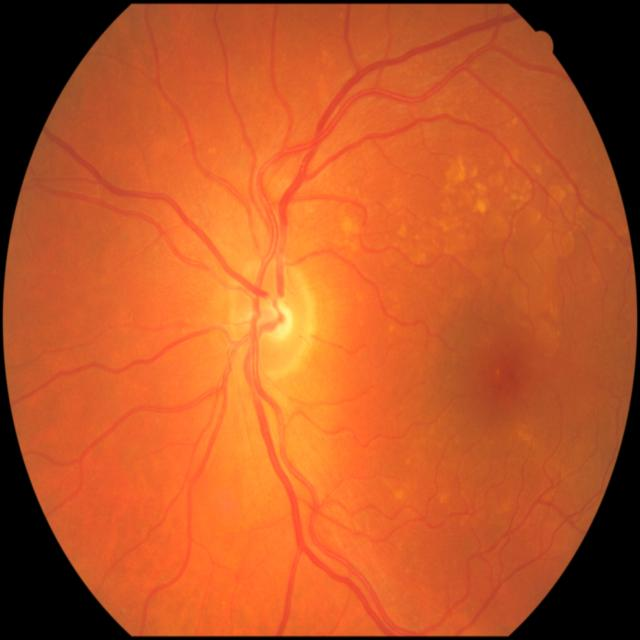OC: (262, 298, 294, 341)
OD: (226, 258, 318, 374)
